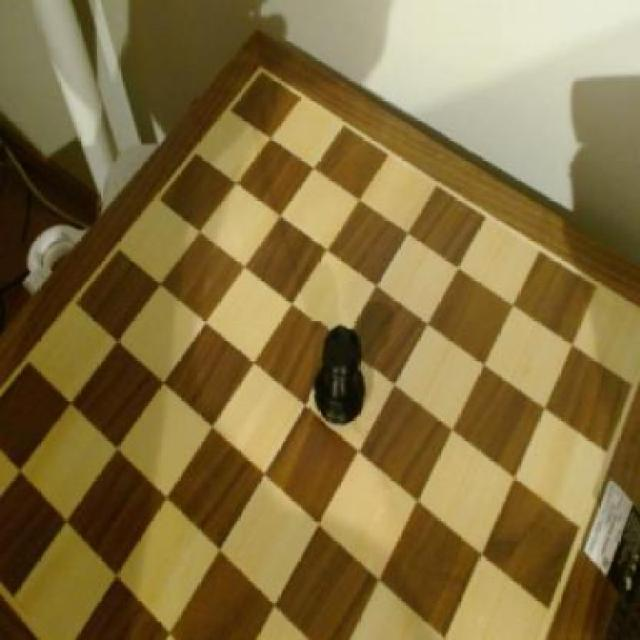black-queen: (309, 322, 372, 432)
